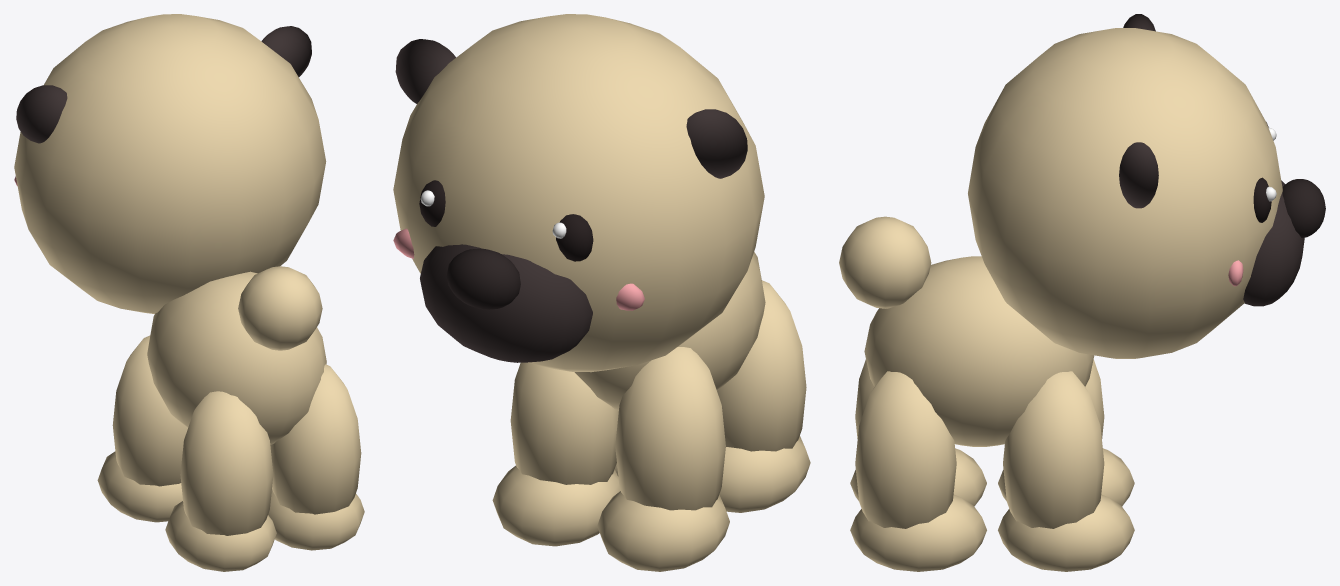
Rendered from dog_pug.glb.
The picture shows the model from 3 angles, left to right: view 1: azimuth 30°, elevation 25°; view 2: azimuth 150°, elevation 25°; view 3: azimuth 270°, elevation 25°; orthographic projection. The views are drawn at different scales.
Visible parts, largest first — view 1: Head, Body, LegBL, LegBR, LegFL, Tail, LegBLPaw, LegBRPaw, LegFLPaw, EarL, EarR; view 2: Head, LegFL, Snout, LegFR, LegBL, LegFLPaw, LegFRPaw, Body, LegBLPaw, Nose, EarL, EarR (+3 smaller); view 3: Head, Body, LegBR, LegFR, Tail, LegBRPaw, LegFRPaw, Snout, EarR, Nose, LegBLPaw, LegFLPaw (+2 smaller).
Part boxes in pixels (<box>): Head: <box>14,14,326,314</box>; Body: <box>147,271,326,444</box>; LegBL: <box>180,391,273,535</box>; LegBR: <box>270,364,361,514</box>; LegFL: <box>112,335,187,486</box>; Tail: <box>238,266,322,350</box>; LegBLPaw: <box>165,501,276,571</box>; LegBRPaw: <box>268,489,364,550</box>; LegFLPaw: <box>97,451,182,522</box>; EarL: <box>16,85,67,143</box>; EarR: <box>261,26,311,76</box>; Head: <box>393,14,764,372</box>; LegFL: <box>615,347,725,510</box>; Snout: <box>420,244,592,362</box>; LegFR: <box>510,362,618,484</box>; LegBL: <box>717,280,806,451</box>; LegFLPaw: <box>597,491,729,571</box>; LegFRPaw: <box>492,465,620,546</box>; Body: <box>574,252,765,410</box>; LegBLPaw: <box>719,436,810,512</box>; Nose: <box>446,248,520,309</box>; EarL: <box>686,109,747,178</box>; EarR: <box>395,39,455,103</box>; Head: <box>968,28,1282,358</box>; Body: <box>864,256,1094,446</box>; LegBR: <box>855,371,956,528</box>; LegFR: <box>1003,371,1104,528</box>; Tail: <box>839,216,931,308</box>; LegBRPaw: <box>850,494,986,571</box>; LegFRPaw: <box>998,494,1134,571</box>; Snout: <box>1243,180,1304,306</box>; EarR: <box>1119,142,1158,208</box>; Nose: <box>1282,179,1325,237</box>; LegBLPaw: <box>850,448,986,506</box>; LegFLPaw: <box>998,448,1134,506</box>.
Size of the model in its own units: 0.6839 by 1.02 by 0.902.
